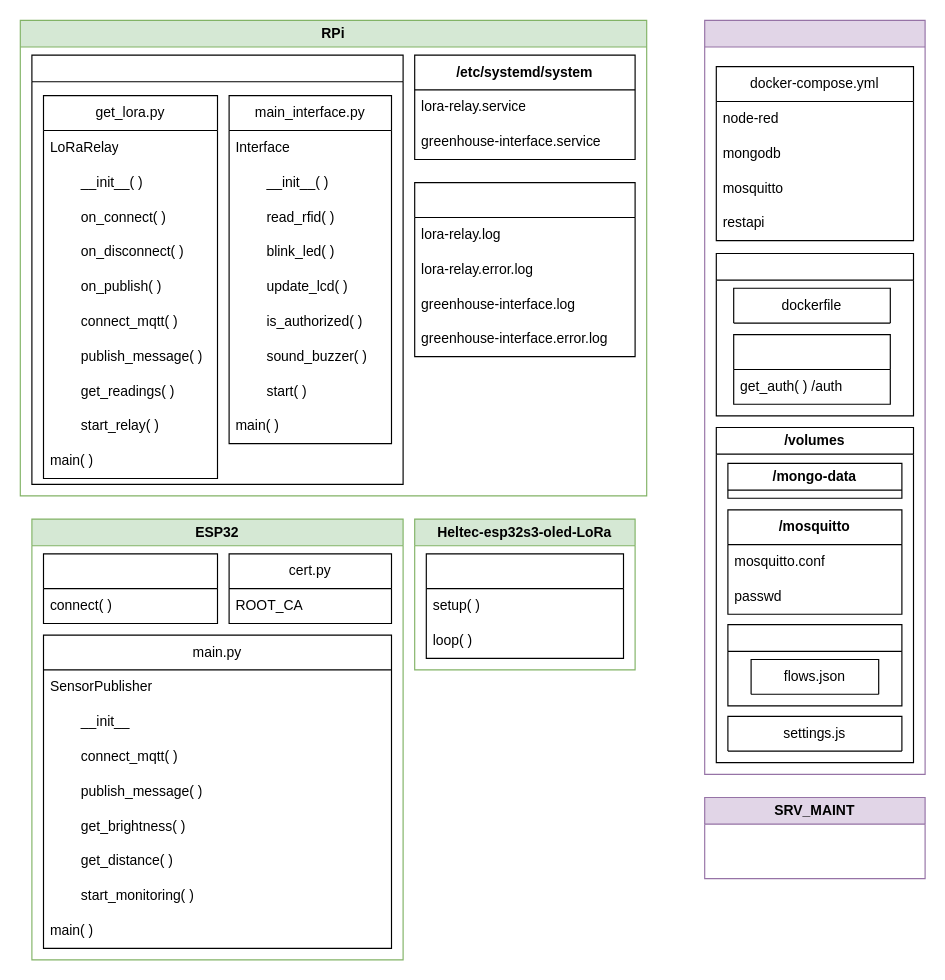
The diagram is 945 pixels wide and 980 high, and some of its shapes have lost their labels. Each missing label, with the box of its shape:
/home/pi/Horticonnect: (31, 54, 403, 484)
/node-red-data: (727, 624, 902, 706)
/REST_API: (715, 252, 913, 416)
/var/log/: (414, 182, 635, 357)
app.py: (733, 334, 890, 404)
boot.py: (42, 553, 217, 624)
get_hum_temp.ino: (425, 553, 624, 658)
SRV_APP: (704, 19, 925, 774)
